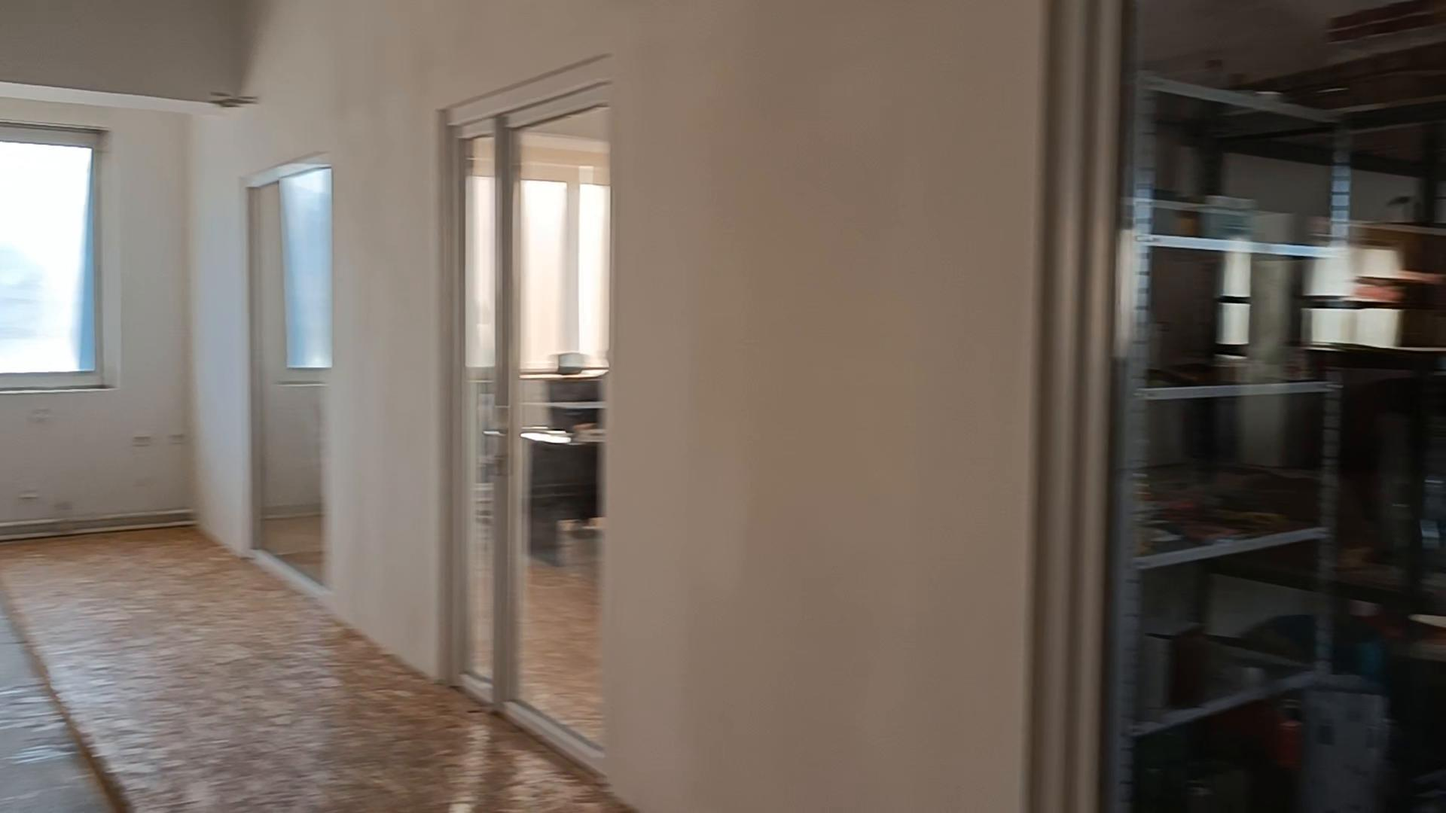ceiling: (0, 0, 326, 113), (1139, 0, 1445, 113)
floor: (0, 528, 627, 812)
wall: (0, 0, 1445, 812)
